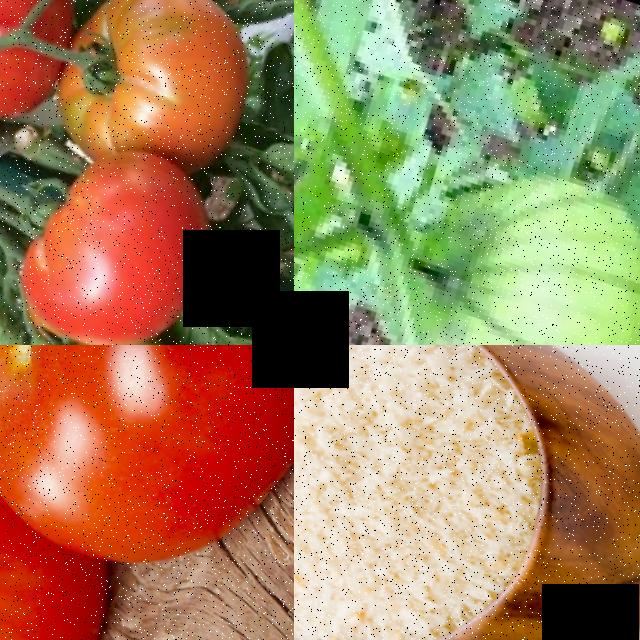tomato: (0, 345, 294, 640), (0, 113, 249, 345), (0, 350, 160, 640), (0, 0, 114, 151)
white rice: (294, 345, 604, 640)
